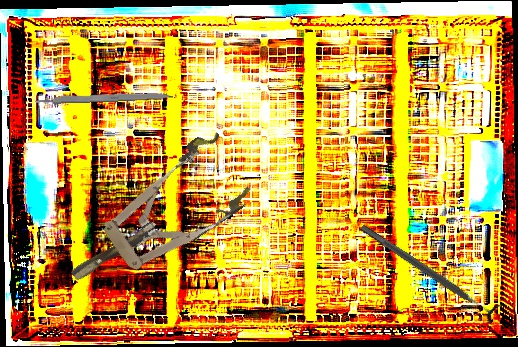Fixation Ring: (354, 216, 505, 326)
Scalpel Handle: (34, 90, 174, 105)
Speculum: (48, 126, 262, 310)
